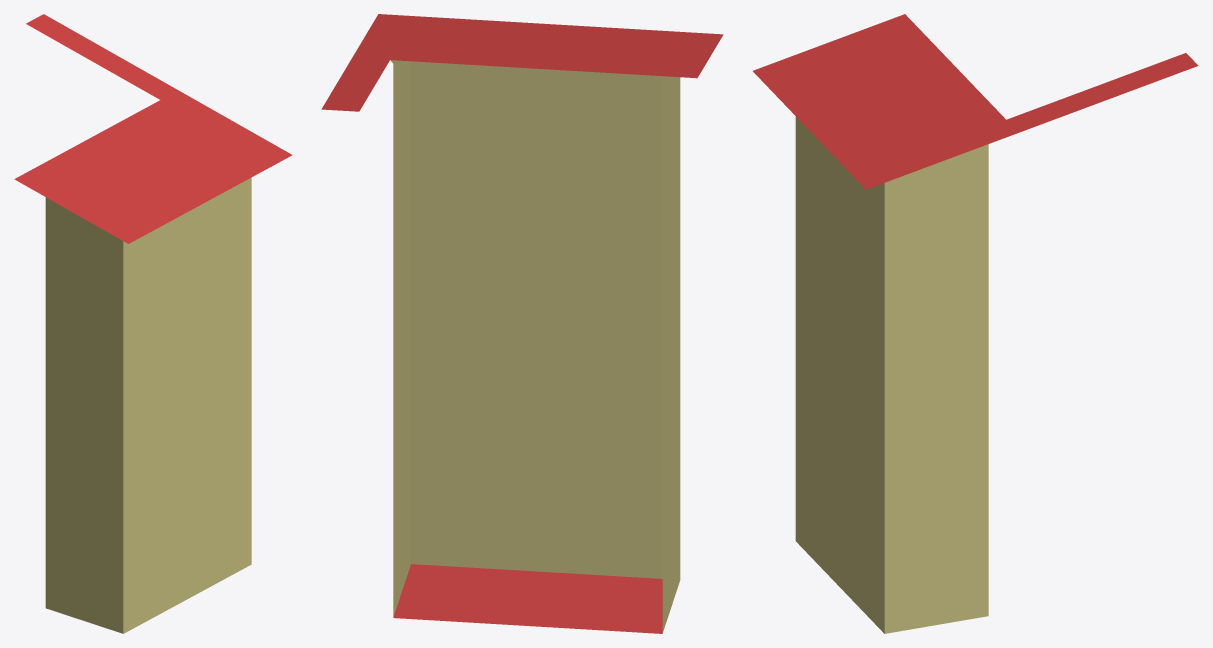
The picture shows the model from 3 angles, left to right: view 1: azimuth 30°, elevation 25°; view 2: azimuth 150°, elevation 25°; view 3: azimuth 270°, elevation 25°; orthographic projection. The views are drawn at different scales.
Bounding box in the file's own units: 5.13 × 6.68 × 8.75.
